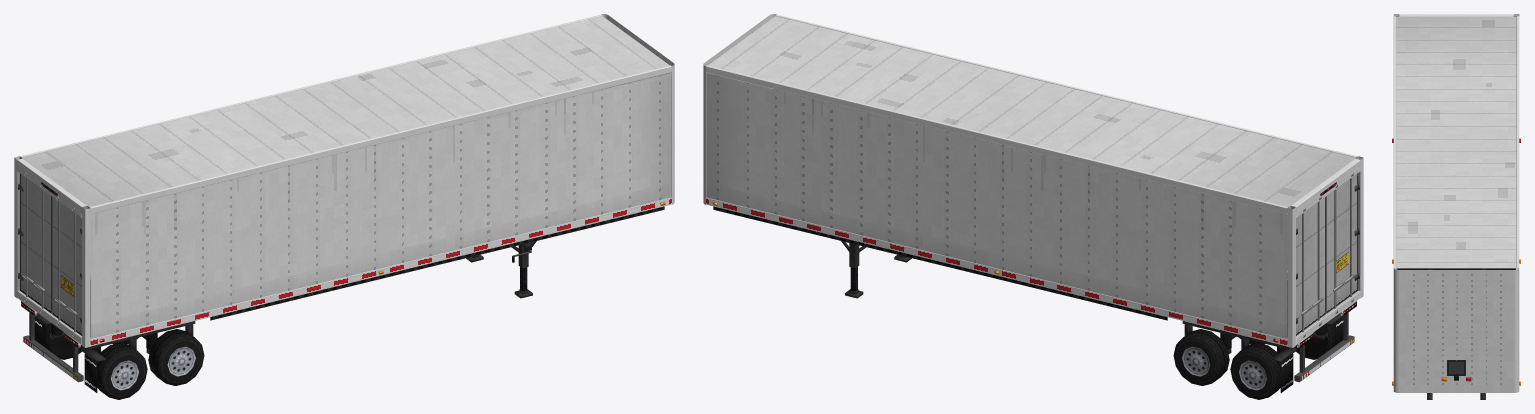
The model's file is p_trailer.glb.
3 views of the same model, side by side, from view 1: azimuth 30°, elevation 25°; view 2: azimuth 150°, elevation 25°; view 3: azimuth 270°, elevation 25° (orthographic). The views are drawn at different scales.
Visible parts, largest first — view 1: trailer_lod0; view 2: trailer_lod0; view 3: trailer_lod0.
Part boxes in pixels (x1=…): trailer_lod0: x1=14, y1=14, x2=674, y2=399; trailer_lod0: x1=703, y1=14, x2=1363, y2=399; trailer_lod0: x1=1392, y1=14, x2=1520, y2=399.
Size of what is drawn, in the model's own units: 12.56 by 4.1 by 2.66.
Materials: 3 (3 with a texture image).
